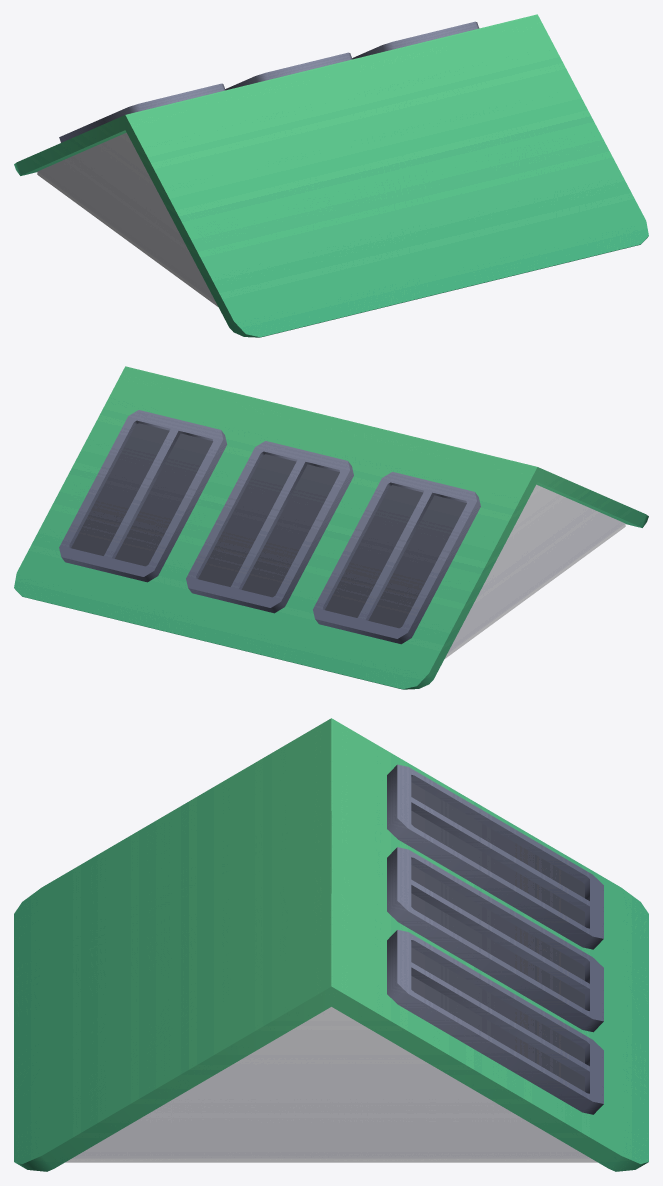
Rendered from suburban-h.glb.
3 views of the same model, one above another, from view 1: azimuth 30°, elevation 25°; view 2: azimuth 150°, elevation 25°; view 3: azimuth 270°, elevation 25° (orthographic). The views are drawn at different scales.
Parts seen in each view (by area): view 1: building-type-h; view 2: building-type-h; view 3: building-type-h.
Part boxes in pixels (x1,y1,x2,y2): building-type-h: (14,14,648,337); building-type-h: (14,366,648,689); building-type-h: (14,718,648,1171).
Size of the model in its own units: 13 by 4.21 by 13.
1 material, 1 textured.
